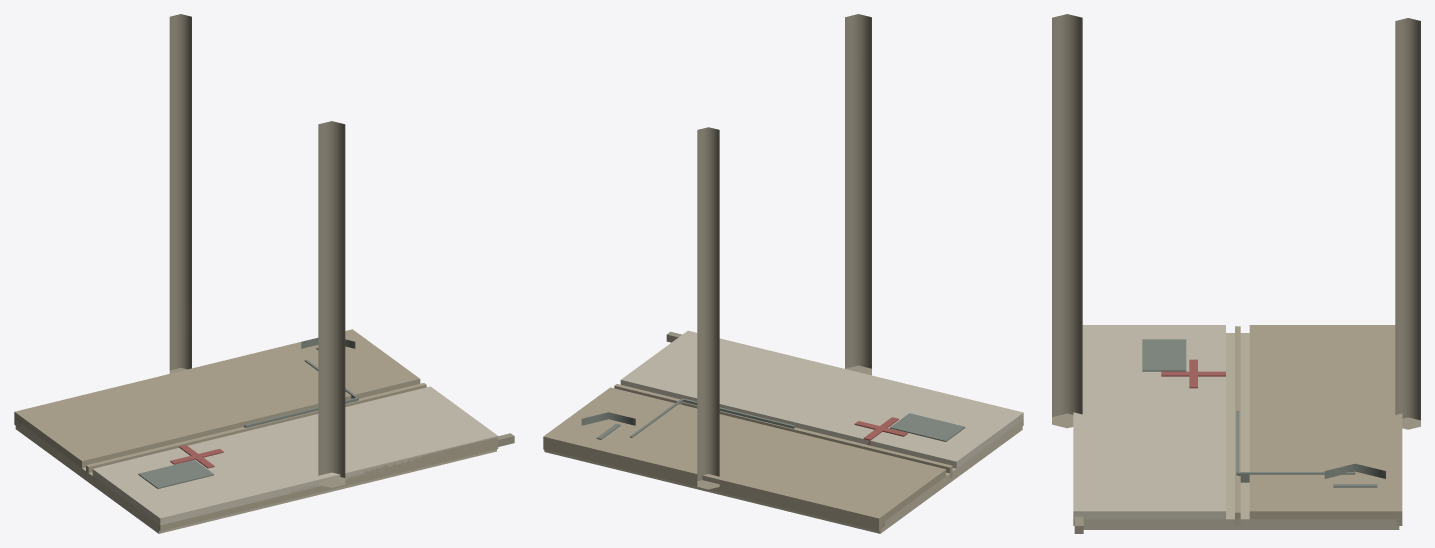
The model's file is map.glb.
3 renders of one model, left to right at view 1: azimuth 30°, elevation 25°; view 2: azimuth 150°, elevation 25°; view 3: azimuth 270°, elevation 25°, orthographic. The views are drawn at different scales.
Size of the model in its own units: 0.1575 by 0.156 by 0.1255.
